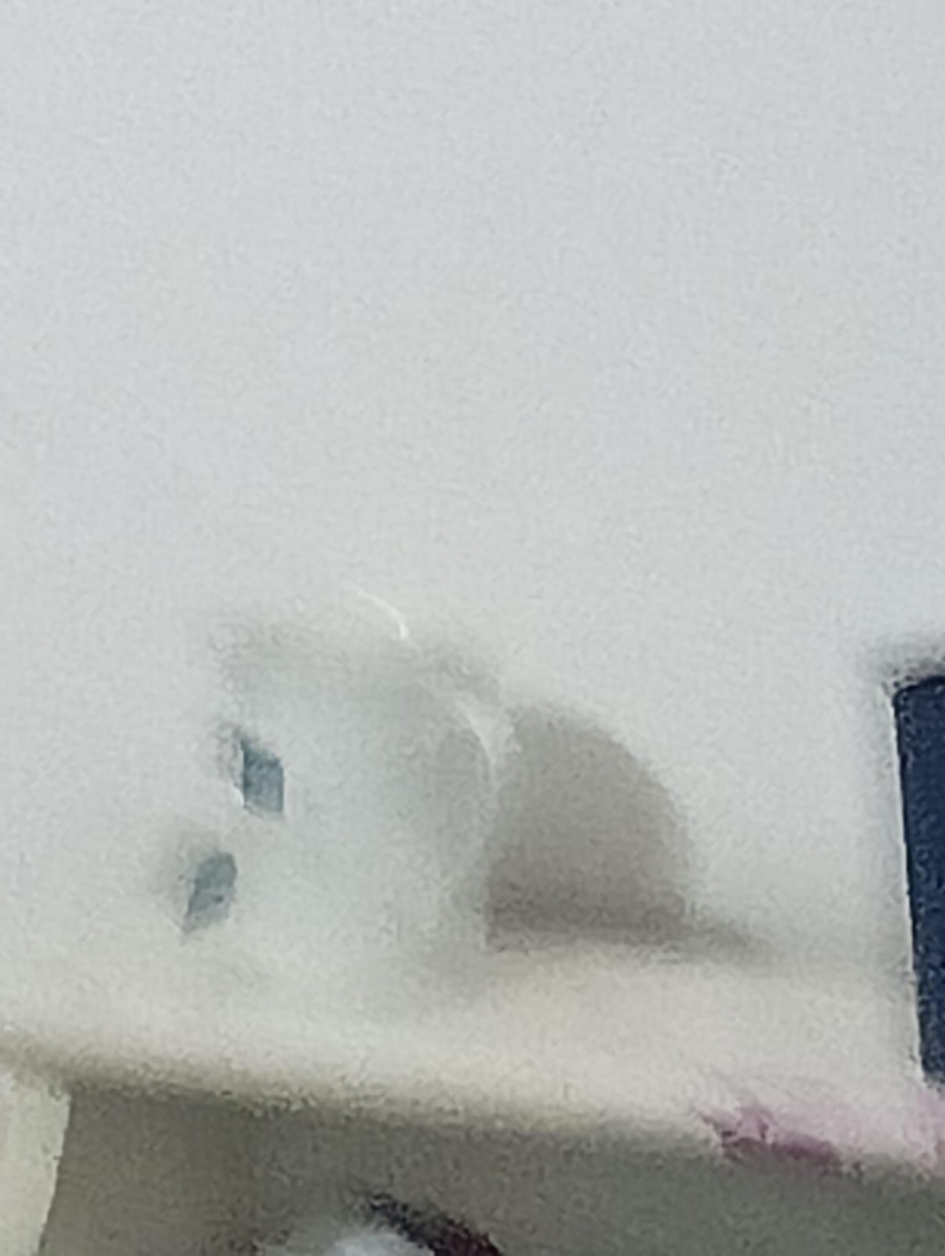cup: (220, 594, 510, 1010), (892, 674, 944, 1082)
